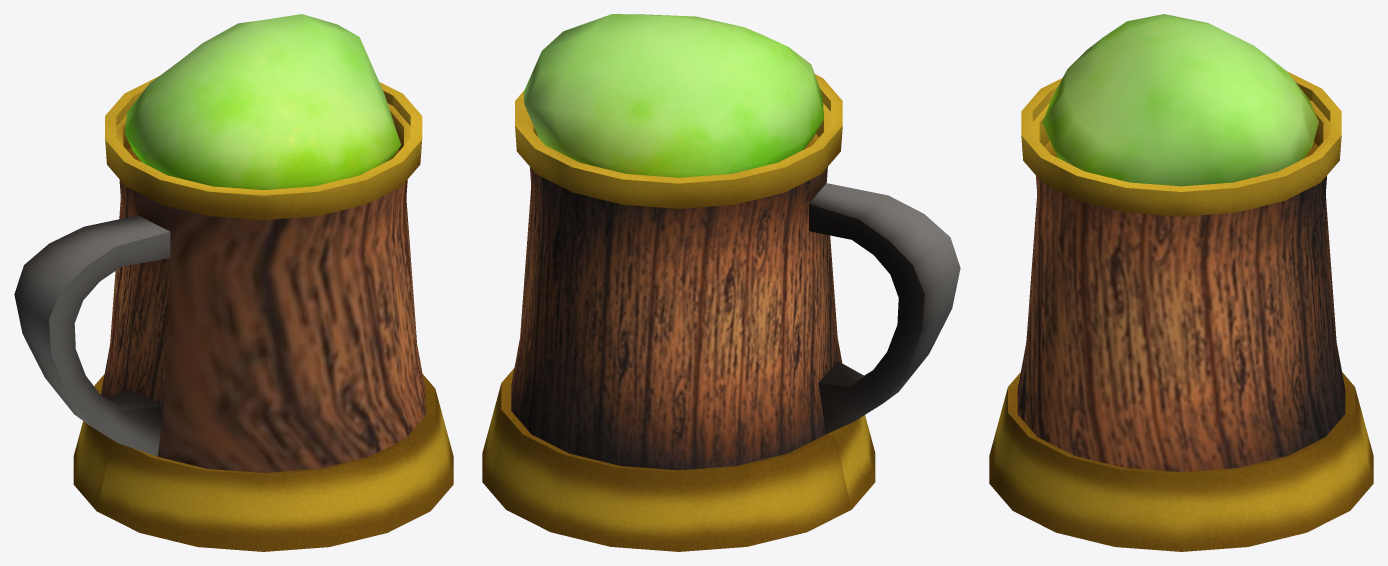
The model's file is jar_beer_green.FBX.
3 views of the same model, side by side, from view 1: azimuth 30°, elevation 25°; view 2: azimuth 150°, elevation 25°; view 3: azimuth 270°, elevation 25° (orthographic). The views are drawn at different scales.
Visible parts, largest first — view 1: beer_jar_grren; view 2: beer_jar_grren; view 3: beer_jar_grren.
Part boxes in pixels (x1=…): beer_jar_grren: x1=14, y1=14, x2=453, y2=551; beer_jar_grren: x1=482, y1=14, x2=960, y2=551; beer_jar_grren: x1=989, y1=14, x2=1373, y2=551.
Bounding box in the file's own units: 81.8 × 82.32 × 65.55.
1 material, 1 textured.
